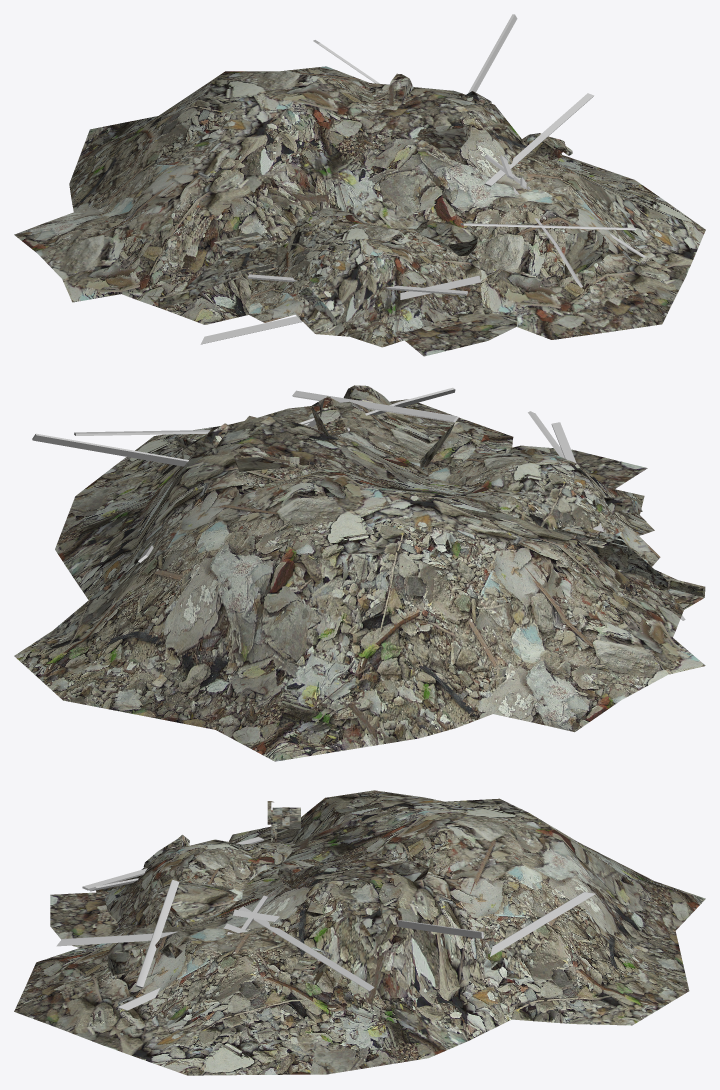
The model's file is ruins_shut2.fbx.
The picture shows the model from 3 angles, top to bottom: view 1: azimuth 30°, elevation 25°; view 2: azimuth 150°, elevation 25°; view 3: azimuth 270°, elevation 25°; orthographic projection. The views are drawn at different scales.
Visible parts, largest first — view 1: shutt; view 2: shutt; view 3: shutt.
Part boxes in pixels (x1=…): shutt: x1=14, y1=14, x2=705, y2=356; shutt: x1=14, y1=385, x2=705, y2=761; shutt: x1=14, y1=790, x2=705, y2=1075.
Size of the model in its own units: 1173 by 284 by 1266.
